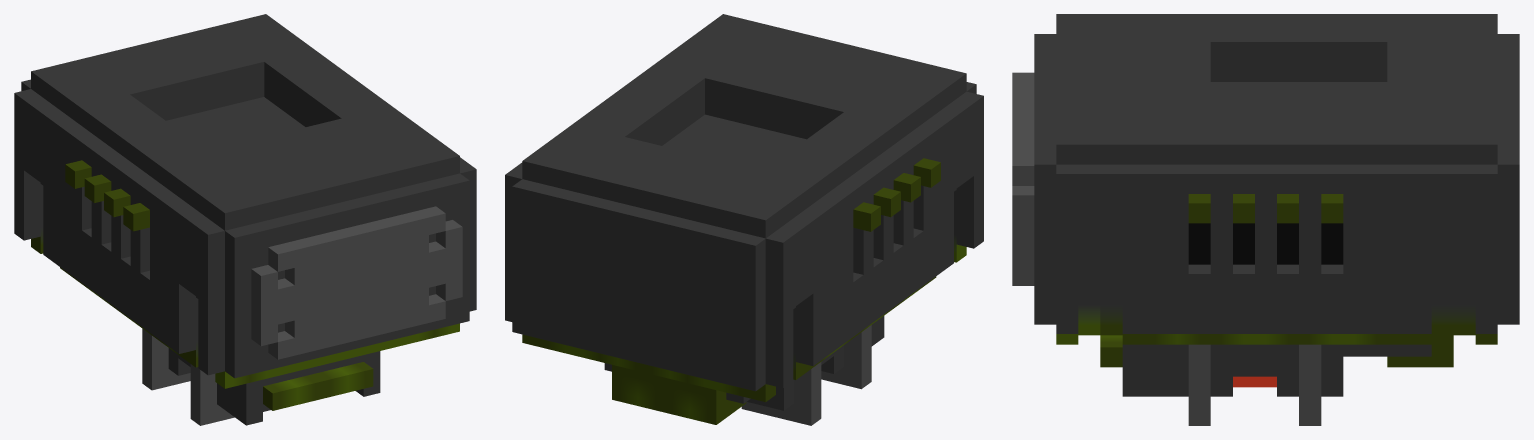
File: Body4.fbx
3 views of the same model, side by side, from view 1: azimuth 30°, elevation 25°; view 2: azimuth 150°, elevation 25°; view 3: azimuth 270°, elevation 25° (orthographic). The views are drawn at different scales.
Parts seen in each view (by area): view 1: Body4; view 2: Body4; view 3: Body4.
Boxes of the visible parts, x1,y1,x2,y2 form: Body4: (14, 14, 476, 425); Body4: (505, 14, 983, 425); Body4: (1012, 14, 1519, 425).
Bounding box in the file's own units: 90 × 75 × 115.
